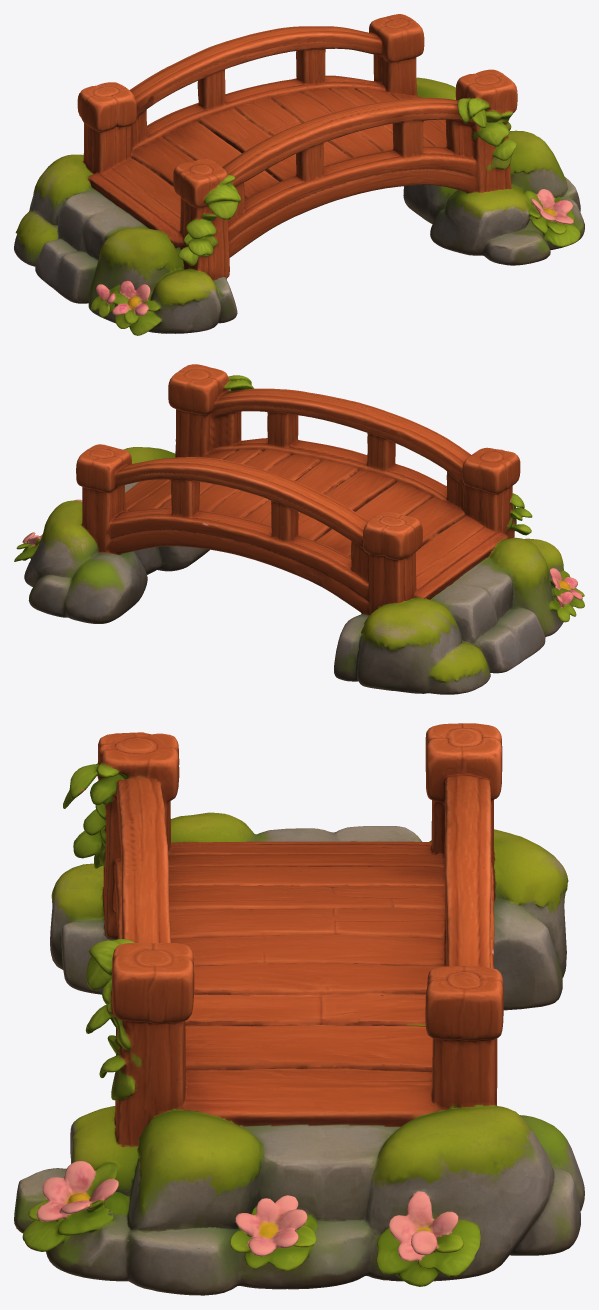
File: map-woodland-footbridge.glb
3 views of the same model, one above another, from view 1: azimuth 30°, elevation 25°; view 2: azimuth 150°, elevation 25°; view 3: azimuth 270°, elevation 25° (orthographic). The views are drawn at different scales.
Size of the model in its own units: 0.9982 by 0.325 by 0.6105.
Materials: 1 (1 with a texture image).
